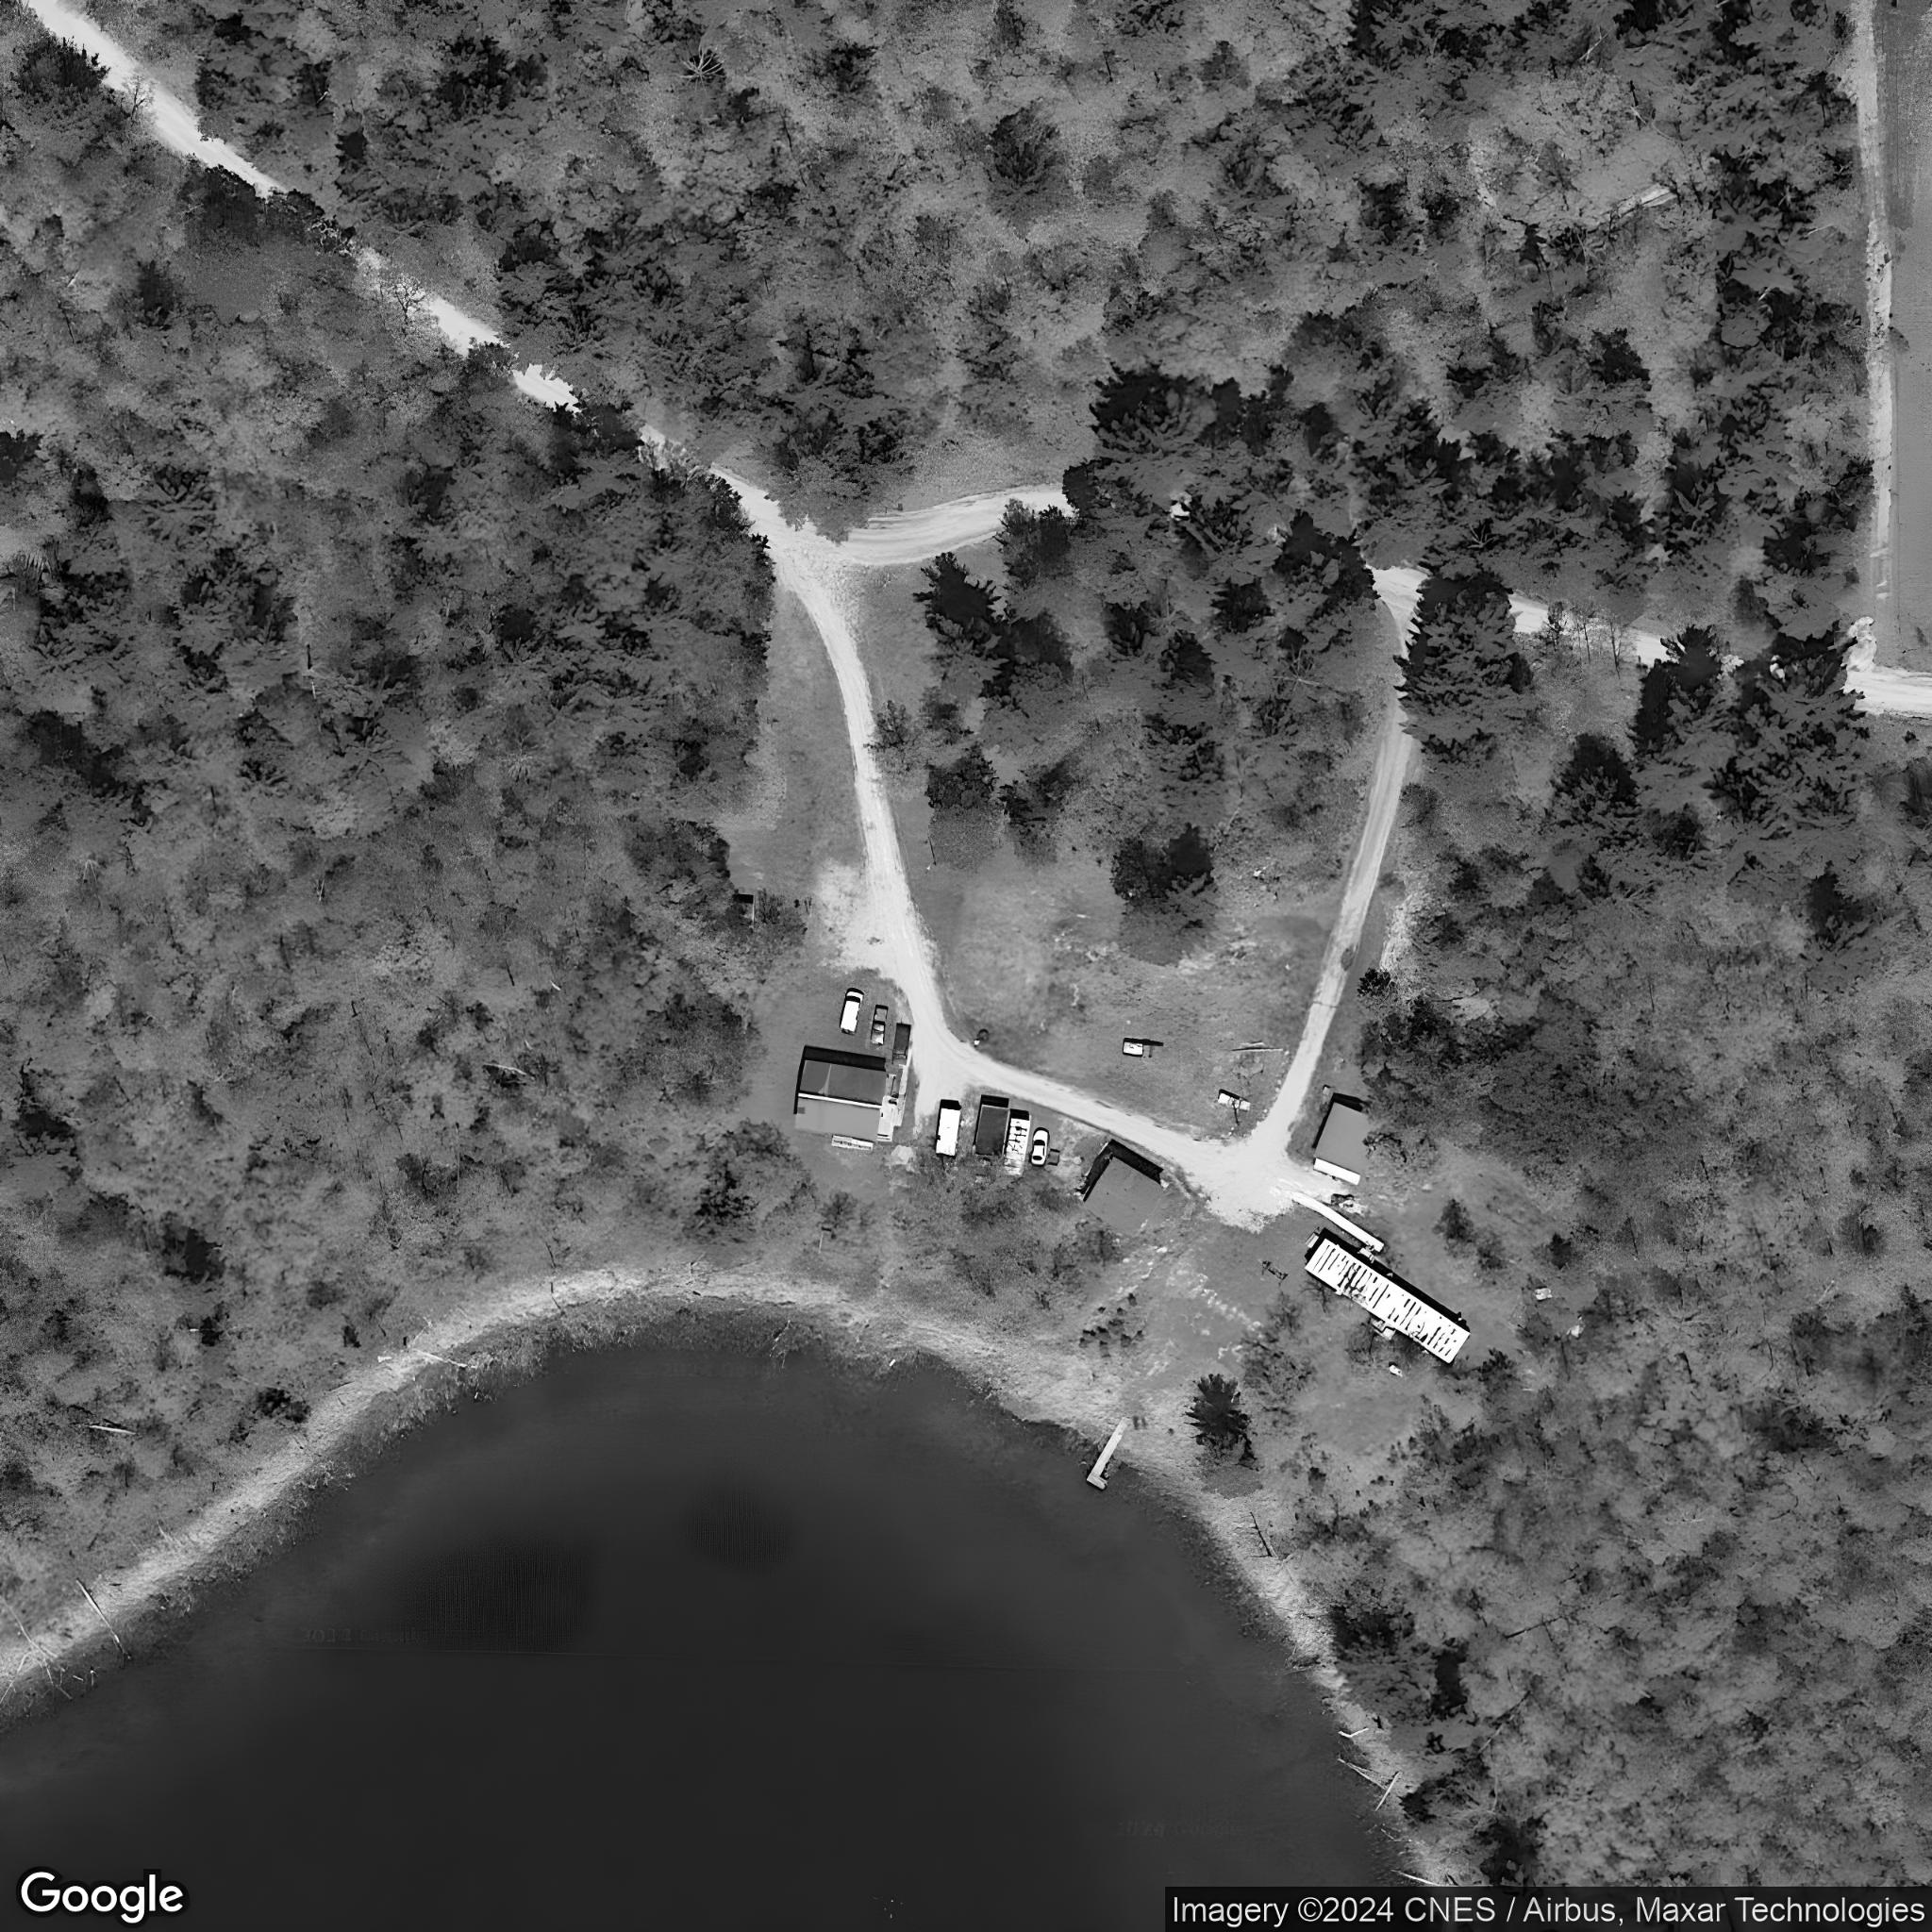Garage: (1077, 1154, 1164, 1240), (1311, 1099, 1389, 1178)
House: (791, 1056, 888, 1143)
Propane: (1384, 1357, 1410, 1385)
Trailer: (1302, 1235, 1472, 1366)
